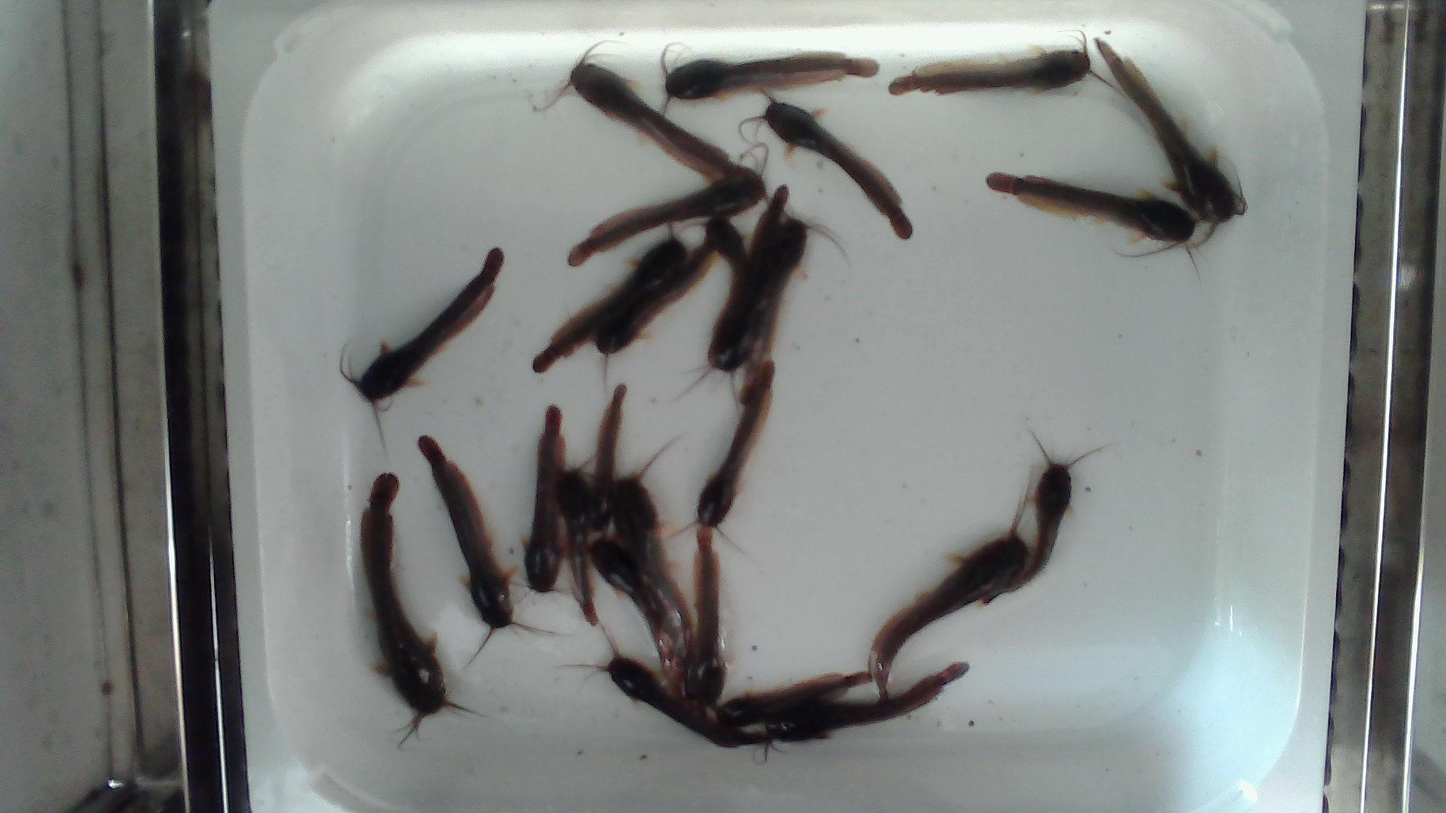lele: (868, 501, 1036, 702), (340, 248, 503, 455), (1095, 37, 1247, 247), (417, 435, 559, 656), (534, 41, 745, 181), (360, 472, 467, 735), (675, 184, 790, 412), (738, 90, 911, 239), (532, 222, 689, 374), (567, 147, 767, 266), (572, 627, 768, 748), (739, 207, 849, 407), (610, 434, 693, 690), (669, 360, 775, 553), (983, 435, 1101, 607), (764, 663, 969, 761), (588, 243, 718, 395), (987, 173, 1197, 258), (660, 43, 878, 113), (889, 33, 1118, 95), (591, 526, 675, 671), (714, 670, 875, 727), (522, 403, 566, 596), (683, 528, 725, 710), (558, 460, 598, 629), (694, 217, 751, 332), (588, 385, 627, 530)
